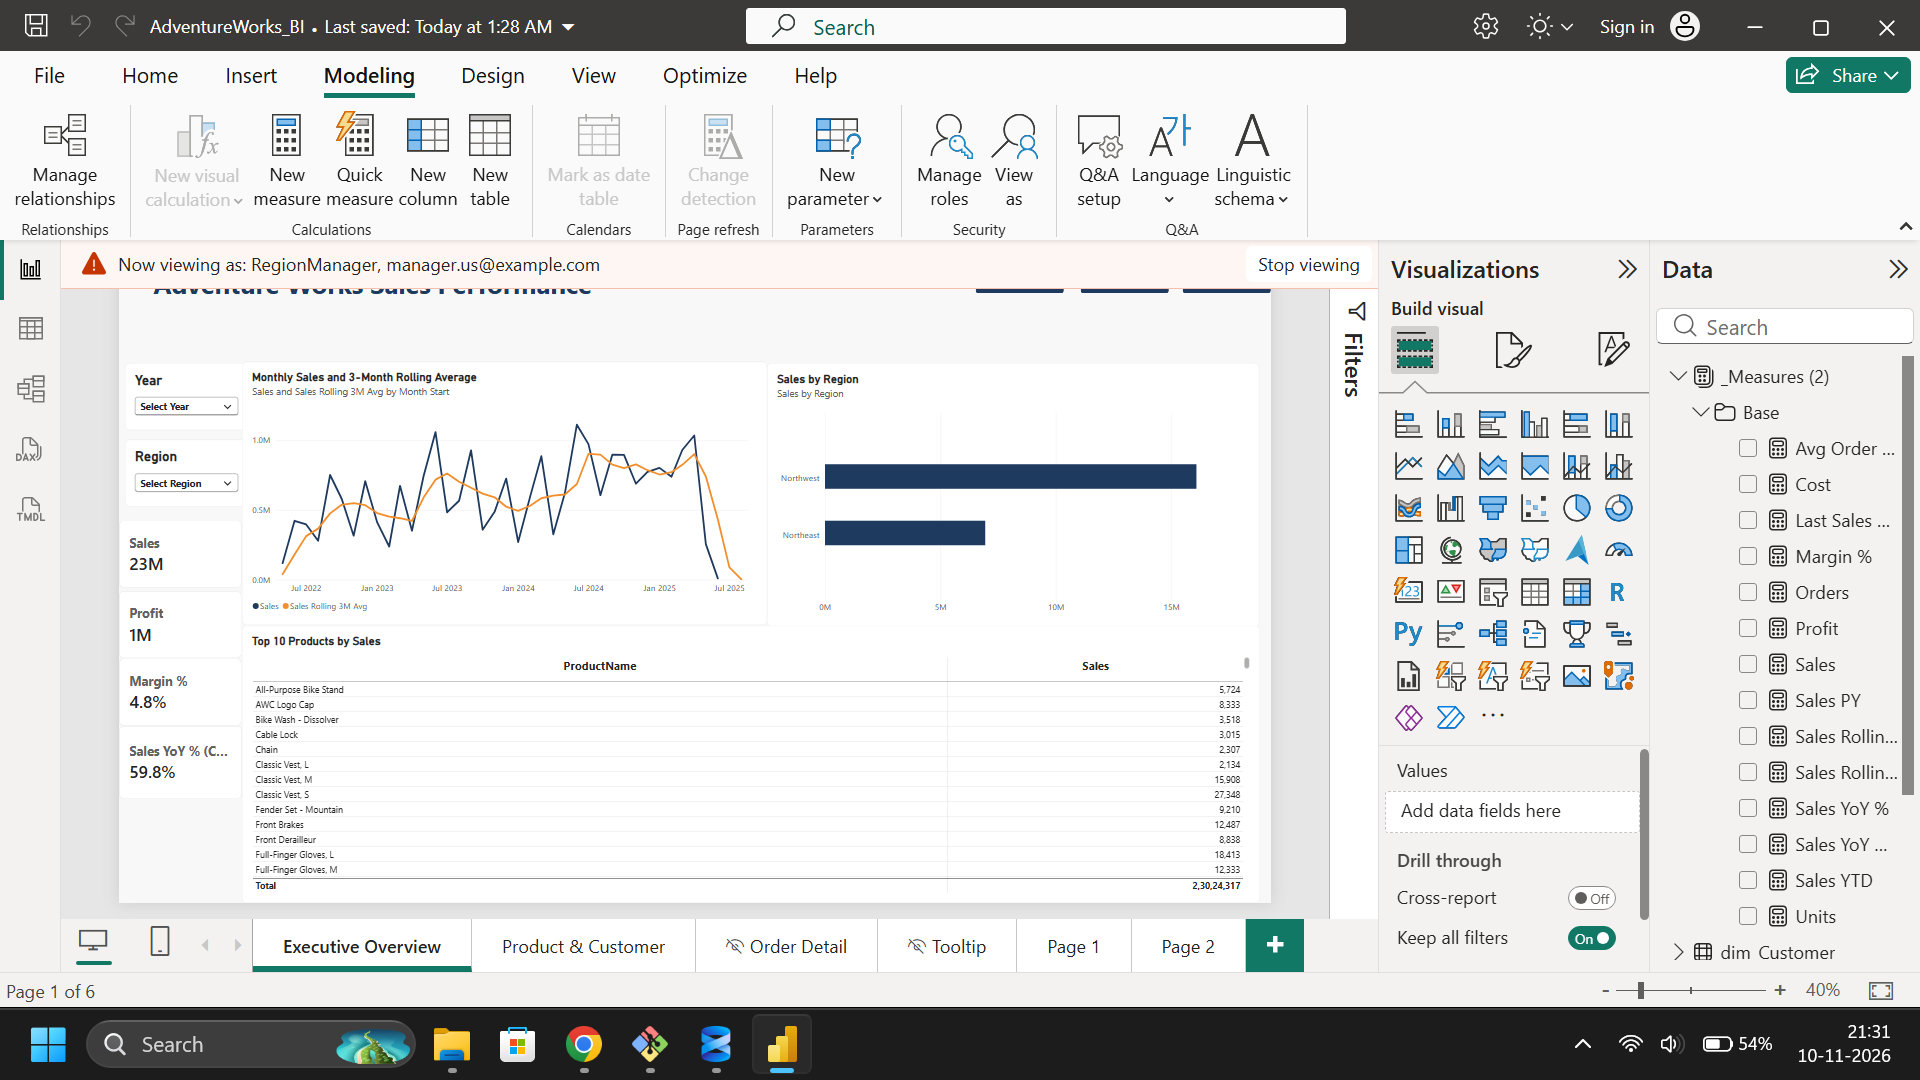

The page's visual inventory and layout, read from the dashboard file:
{"tool":"powerbi","page":{"name":"Executive Overview","canvas":[1920,1080],"ordinal":0},"visuals":[{"type":"textbox","box":[9.5,0,1911.1,126.5],"z":0},{"type":"listSlicer","fields":{"Values":["dim_Date.Year"]},"box":[9.5,178.9,205.2,112.1],"z":1000},{"type":"listSlicer","fields":{"Values":["dim_Territory.Region"]},"box":[9.5,307.8,205,112],"z":2000},{"type":"cardVisual","fields":{"Data":["_Measures (2).Sales"]},"box":[0,441.4,205.2,112],"z":3000},{"type":"cardVisual","fields":{"Data":["_Measures (2).Profit"]},"box":[0,560.7,204.9,112],"z":4000},{"type":"cardVisual","fields":{"Data":["_Measures (2).Margin %"]},"box":[0,672.8,204.9,112],"z":5000},{"type":"cardVisual","fields":{"Data":["_Measures (2).Sales YoY % (Comparable)"]},"box":[0,785,205.2,121.7],"z":6000},{"type":"lineChart","title":"Monthly Sales and 3-Month Rolling Average","fields":{"Category":["dim_Date.Month Start"],"Y":["_Measures (2).Sales","_Measures (2).Sales Rolling 3M Avg"]},"box":[205.2,176.6,875.6,439],"z":7000},{"type":"clusteredBarChart","title":"Sales by Region","fields":{"Category":["dim_Territory.Region"],"Y":["_Measures (2).Sales"]},"box":[1080.8,178.9,820.8,439],"z":8000},{"type":"tableEx","title":"Top 10 Products by Sales","fields":{"Values":["dim_Product.ProductName","_Measures (2).Sales"]},"box":[205.2,618,1696.4,462.9],"z":9000},{"type":"actionButton","box":[1426.8,0,147.3,63.6],"z":10000},{"type":"actionButton","box":[1603.3,0,147.3,63.6],"z":11000},{"type":"actionButton","box":[1772.7,0,147.3,63.6],"z":12000}]}

Visuals, with their boxes on the page's 1920x1080 design canvas (x1, y1, x2, y2). These are canvas units, not pixel positions in the 1920x1080 screenshot, which may show the page scaled, cropped or inside an application window:
textbox: l=10, t=0, r=1921, b=126
listSlicer - dim_Date.Year: l=10, t=179, r=215, b=291
listSlicer - dim_Territory.Region: l=10, t=308, r=214, b=420
cardVisual - _Measures (2).Sales: l=0, t=441, r=205, b=553
cardVisual - _Measures (2).Profit: l=0, t=561, r=205, b=673
cardVisual - _Measures (2).Margin %: l=0, t=673, r=205, b=785
cardVisual - _Measures (2).Sales YoY % (Comparable): l=0, t=785, r=205, b=907
"Monthly Sales and 3-Month Rolling Average" lineChart: l=205, t=177, r=1081, b=616
"Sales by Region" clusteredBarChart: l=1081, t=179, r=1902, b=618
"Top 10 Products by Sales" tableEx: l=205, t=618, r=1902, b=1081
actionButton: l=1427, t=0, r=1574, b=64
actionButton: l=1603, t=0, r=1751, b=64
actionButton: l=1773, t=0, r=1920, b=64
